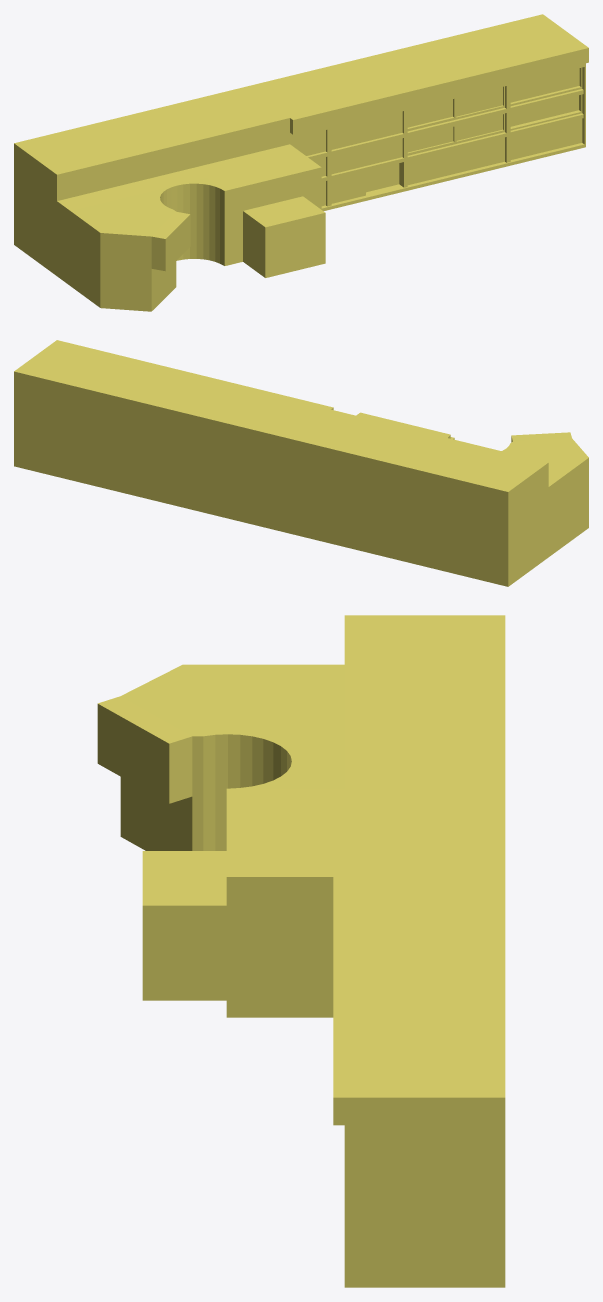
File: Gonzaga_Building 1.fbx
3 renders of one model, top to bottom at view 1: azimuth 30°, elevation 25°; view 2: azimuth 150°, elevation 25°; view 3: azimuth 270°, elevation 25°, orthographic. The views are drawn at different scales.
Visible parts, largest first — view 1: Building; view 2: Building; view 3: Building.
Boxes of the visible parts, bbox=[...] form: Building: bbox=[14, 14, 588, 311]; Building: bbox=[14, 340, 588, 586]; Building: bbox=[97, 615, 505, 1287].
Bounding box in the file's own units: 16535 × 3035 × 5908.
